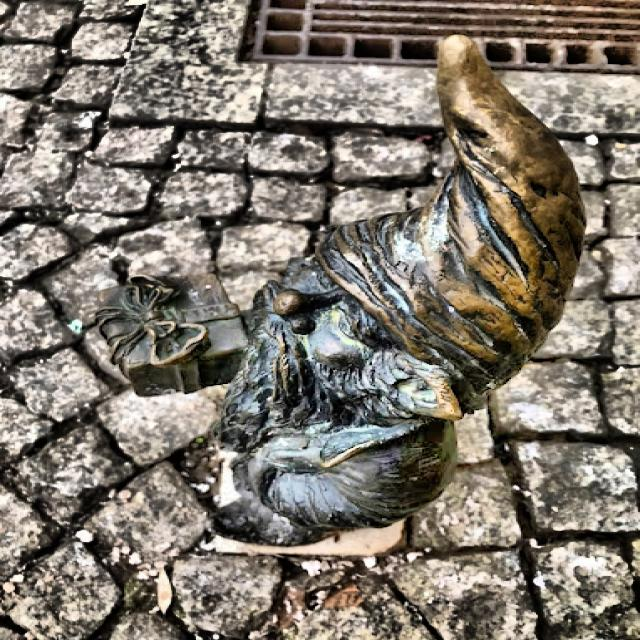Suvenirek: (100, 36, 584, 544)
